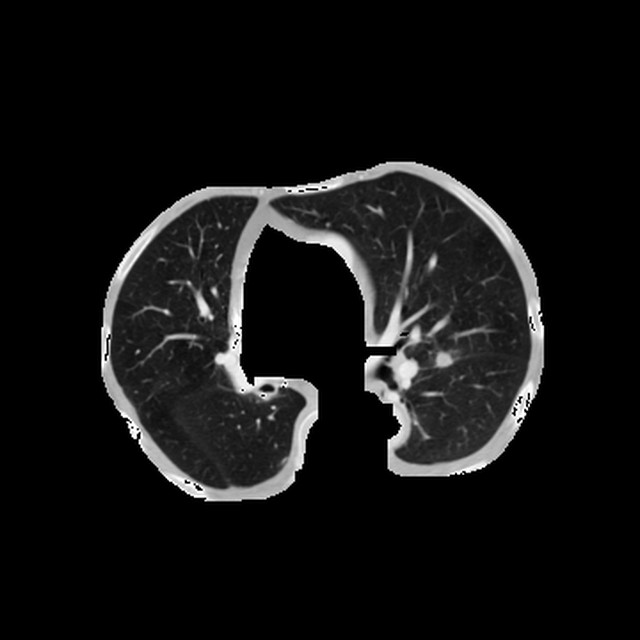PN: (434, 352, 452, 370)
